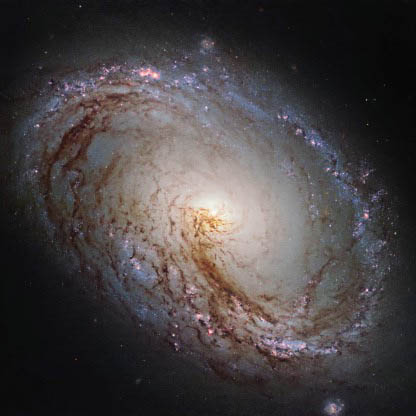Messier 96: (8, 26, 391, 409)
